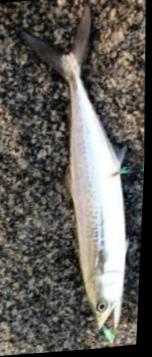fish: (27, 0, 129, 333)
